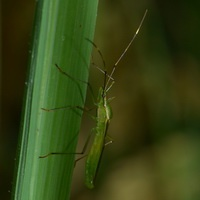insect: (50, 9, 147, 188)
